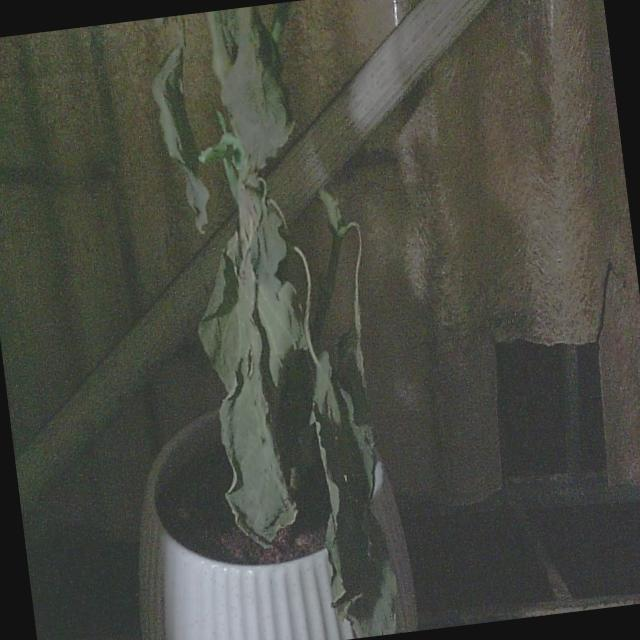Leaf: (312, 354, 395, 637), (220, 6, 291, 168), (152, 29, 208, 231)
